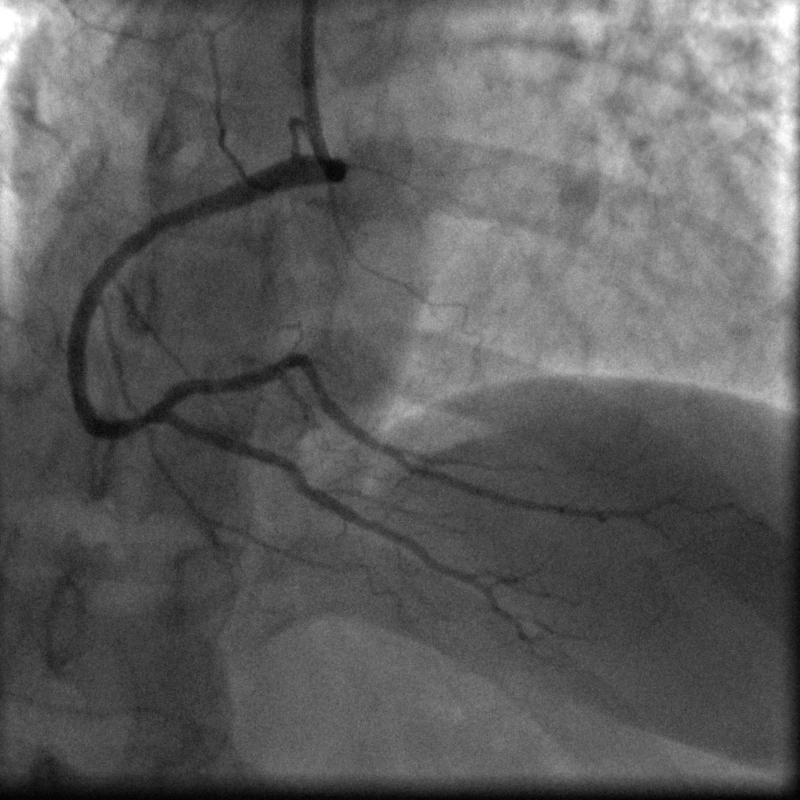Stenosis: (119, 411, 158, 432)
